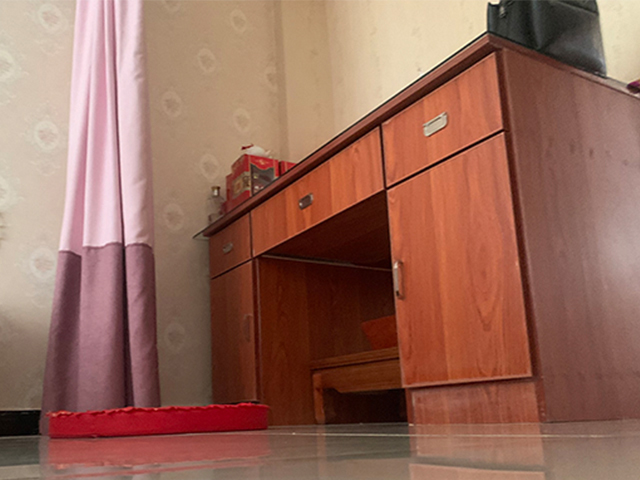curtain: (37, 1, 161, 436)
table: (193, 30, 639, 428)
